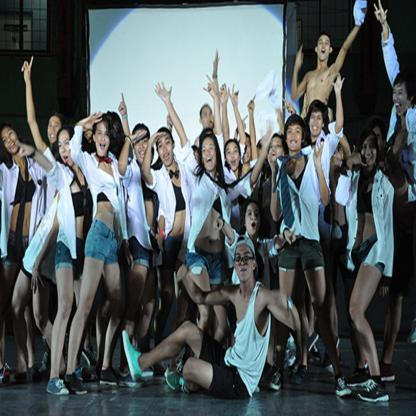face: (236, 249, 253, 282), (158, 137, 174, 167), (59, 138, 74, 168), (96, 125, 110, 157), (135, 135, 150, 164), (3, 128, 19, 155), (361, 140, 377, 167), (394, 86, 408, 116), (246, 209, 261, 236), (203, 143, 217, 171), (287, 125, 302, 150), (48, 120, 62, 145), (227, 145, 240, 171), (369, 134, 383, 158), (189, 155, 202, 180), (269, 140, 283, 162), (310, 114, 323, 136), (319, 38, 331, 61), (330, 142, 344, 161), (203, 109, 215, 130), (241, 141, 252, 163), (85, 131, 95, 151)
